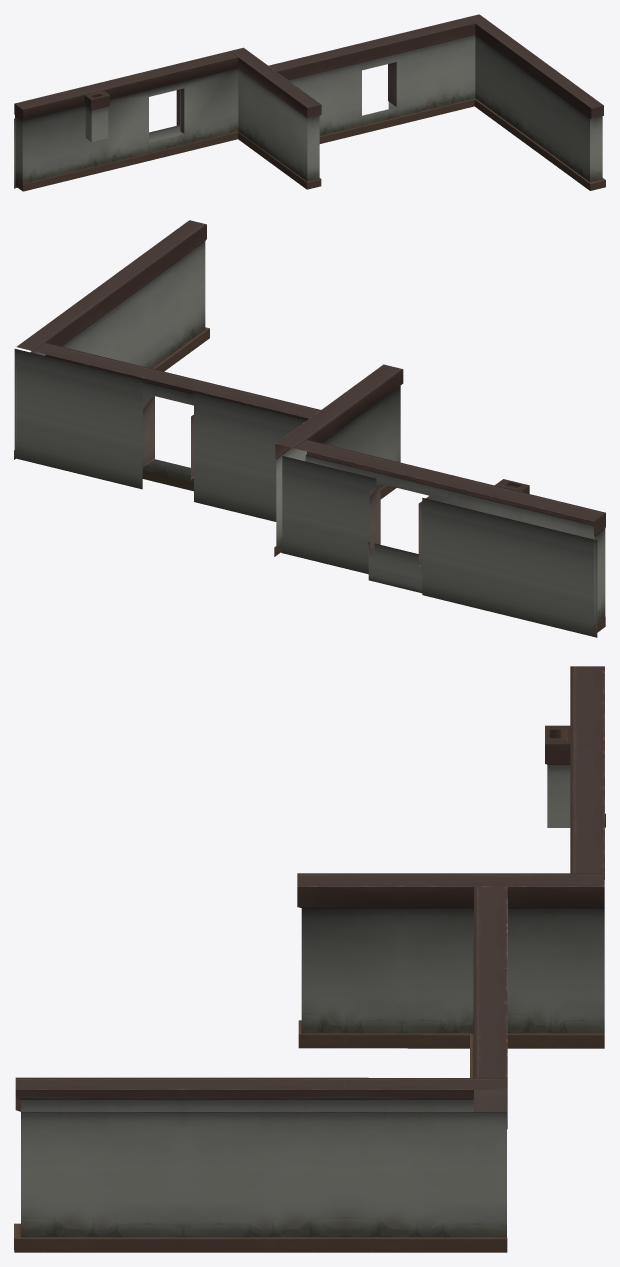
The model's file is scene_shinei_bulaite05.FBX.
The picture shows the model from 3 angles, top to bottom: view 1: azimuth 30°, elevation 25°; view 2: azimuth 150°, elevation 25°; view 3: azimuth 270°, elevation 25°; orthographic projection. The views are drawn at different scales.
Parts seen in each view (by area): view 1: scene_shinei_bulaite05; view 2: scene_shinei_bulaite05; view 3: scene_shinei_bulaite05.
Boxes of the visible parts, x1,y1,x2,y2 form: scene_shinei_bulaite05: [14, 14, 605, 191]; scene_shinei_bulaite05: [14, 220, 605, 637]; scene_shinei_bulaite05: [14, 666, 605, 1252].
Bounding box in the file's own units: 2718 × 501 × 1595.
